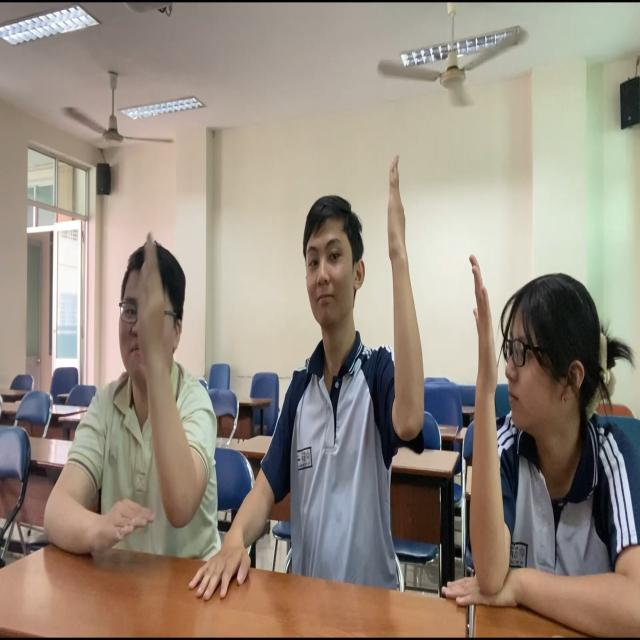raise_hand: (259, 136, 428, 590), (455, 247, 640, 640), (47, 214, 224, 561)
